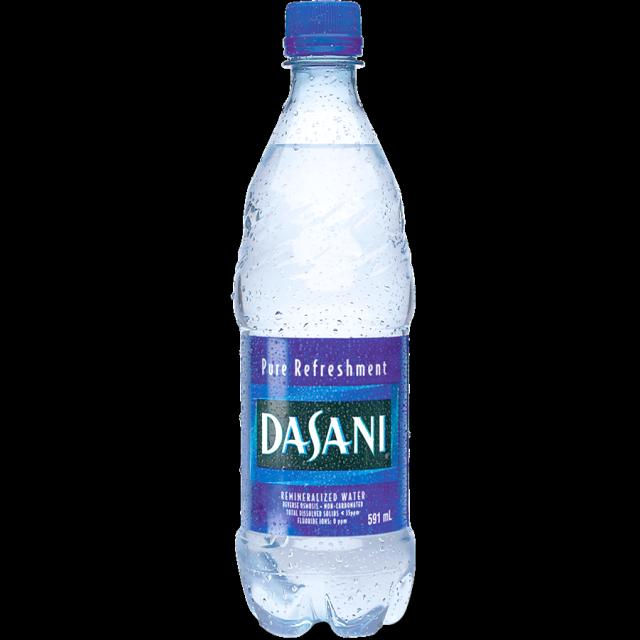full-bottle: (232, 0, 417, 634)
